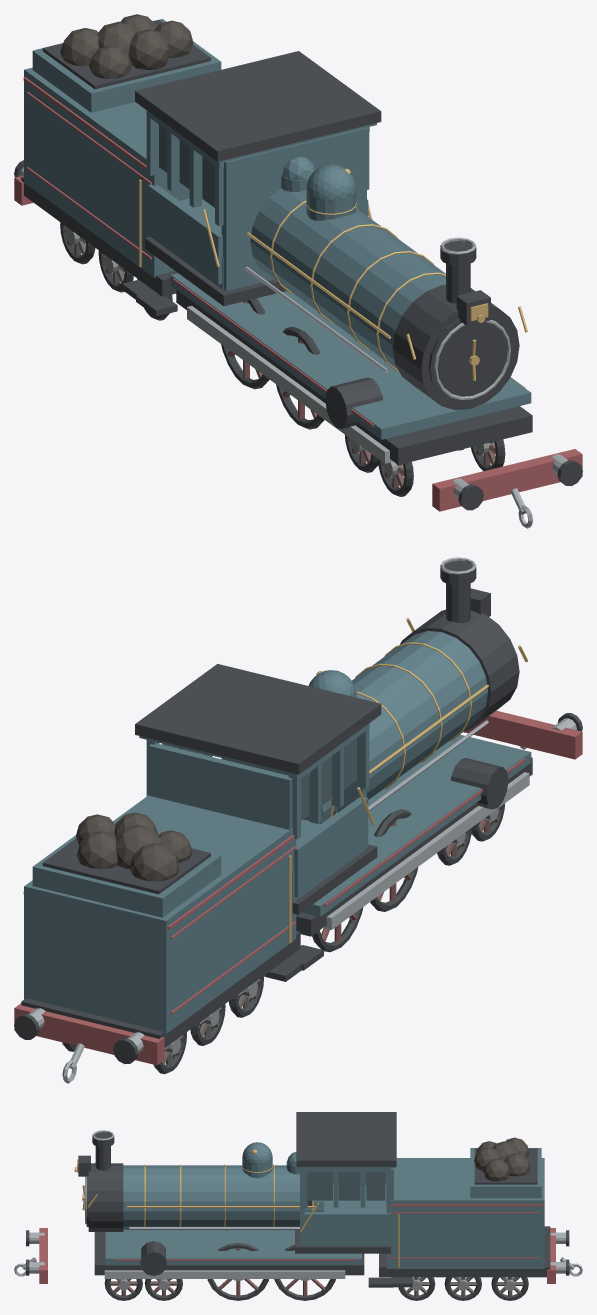
File: highland_steam_4-4-0.glb
The picture shows the model from 3 angles, top to bottom: view 1: azimuth 30°, elevation 25°; view 2: azimuth 150°, elevation 25°; view 3: azimuth 270°, elevation 25°; orthographic projection. The views are drawn at different scales.
Parts seen in each view (by area): view 1: HR_blue, HR_black, HR_red, HR_steel, HR_coal, HR_brass, HR_glass, wheel_driving_L_0.25, wheel_leading_L_2.82, wheel_driving_L_-1.25, wheel_leading_R_2.82, wheel_tender_L_-5.85 (+2 smaller); view 2: HR_blue, HR_black, HR_red, HR_coal, HR_steel, HR_brass, HR_glass, wheel_driving_L_0.25, wheel_driving_L_-1.25, wheel_tender_L_-4.80, wheel_tender_L_-3.75, wheel_tender_L_-5.85 (+1 smaller); view 3: HR_blue, HR_black, HR_steel, HR_red, HR_glass, HR_coal, HR_brass, wheel_driving_R_0.25, wheel_driving_R_-1.25, wheel_tender_R_-5.85, wheel_tender_R_-4.80, wheel_leading_R_2.82 (+2 smaller).
Part boxes in pixels (box(x1,y1,x2,y2)): HR_blue: box(24, 19, 531, 439); HR_black: box(14, 19, 582, 510); HR_red: box(14, 77, 582, 511); HR_steel: box(20, 167, 567, 528); HR_coal: box(60, 14, 193, 78); HR_brass: box(139, 168, 527, 380); HR_glass: box(159, 125, 214, 207); wheel_driving_L_0.25: box(276, 326, 324, 429); wheel_leading_L_2.82: box(378, 459, 413, 496); wheel_driving_L_-1.25: box(221, 298, 269, 389); wheel_leading_R_2.82: box(471, 439, 505, 471); wheel_tender_L_-5.85: box(60, 222, 95, 264); HR_blue: box(24, 631, 531, 1033); HR_black: box(14, 560, 582, 1064); HR_red: box(14, 710, 582, 1065); HR_coal: box(76, 812, 192, 881); HR_steel: box(29, 557, 576, 1083); HR_brass: box(288, 618, 527, 942); HR_glass: box(161, 738, 356, 820); wheel_driving_L_0.25: box(370, 809, 418, 911); wheel_driving_L_-1.25: box(312, 907, 363, 952); wheel_tender_L_-4.80: box(190, 1004, 225, 1045); wheel_tender_L_-3.75: box(229, 976, 263, 1017); wheel_tender_L_-5.85: box(153, 1032, 186, 1074); HR_blue: box(105, 1142, 544, 1268); HR_black: box(26, 1112, 569, 1287); HR_steel: box(14, 1130, 582, 1278); HR_red: box(39, 1204, 555, 1283); HR_glass: box(308, 1172, 385, 1200); HR_coal: box(474, 1137, 530, 1181); HR_brass: box(74, 1149, 399, 1267); wheel_driving_R_0.25: box(207, 1242, 268, 1300); wheel_driving_R_-1.25: box(274, 1244, 335, 1300); wheel_tender_R_-5.85: box(491, 1277, 528, 1300); wheel_tender_R_-4.80: box(444, 1277, 481, 1300); wheel_leading_R_2.82: box(104, 1279, 142, 1300).
Size of the model in its own units: 2.64 by 3.78 by 12.77.
